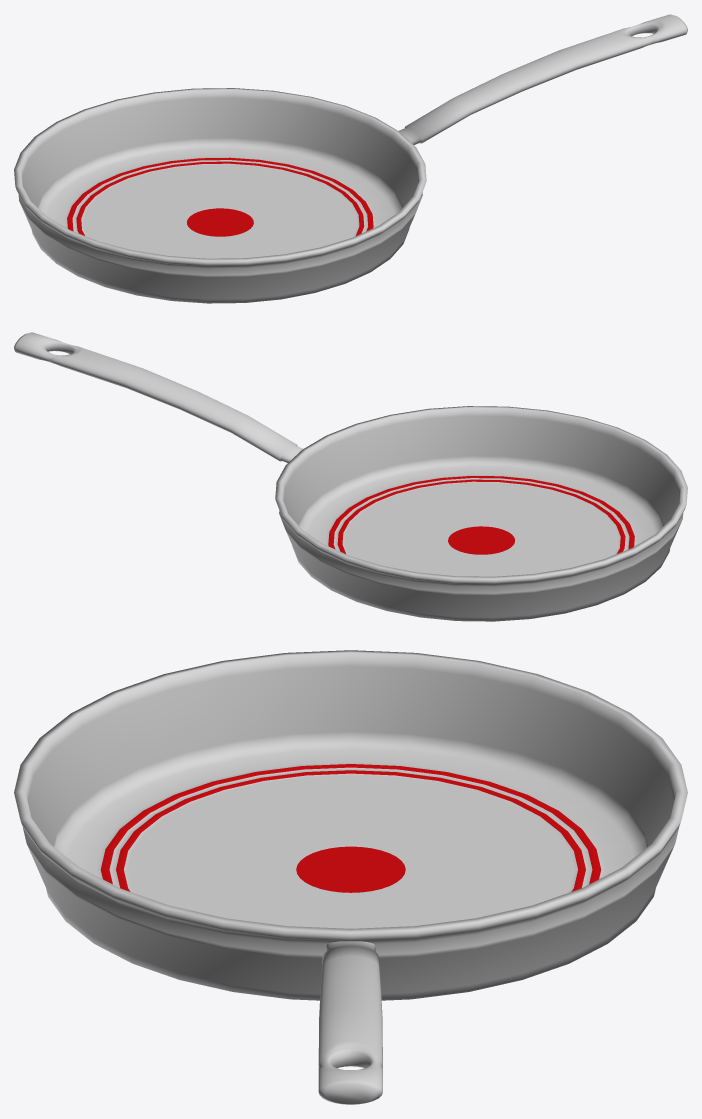
The model's file is Pan3.fbx.
3 renders of one model, top to bottom at view 1: azimuth 30°, elevation 25°; view 2: azimuth 150°, elevation 25°; view 3: azimuth 270°, elevation 25°, orthographic. The views are drawn at different scales.
Visible parts, largest first — view 1: Cylinder.011; view 2: Cylinder.011; view 3: Cylinder.011.
Boxes of the visible parts, x1,y1,x2,y2 form: Cylinder.011: (14,14,687,303); Cylinder.011: (14,332,687,621); Cylinder.011: (14,650,687,1104).
Bounding box in the file's own units: 371 × 55.02 × 208.
